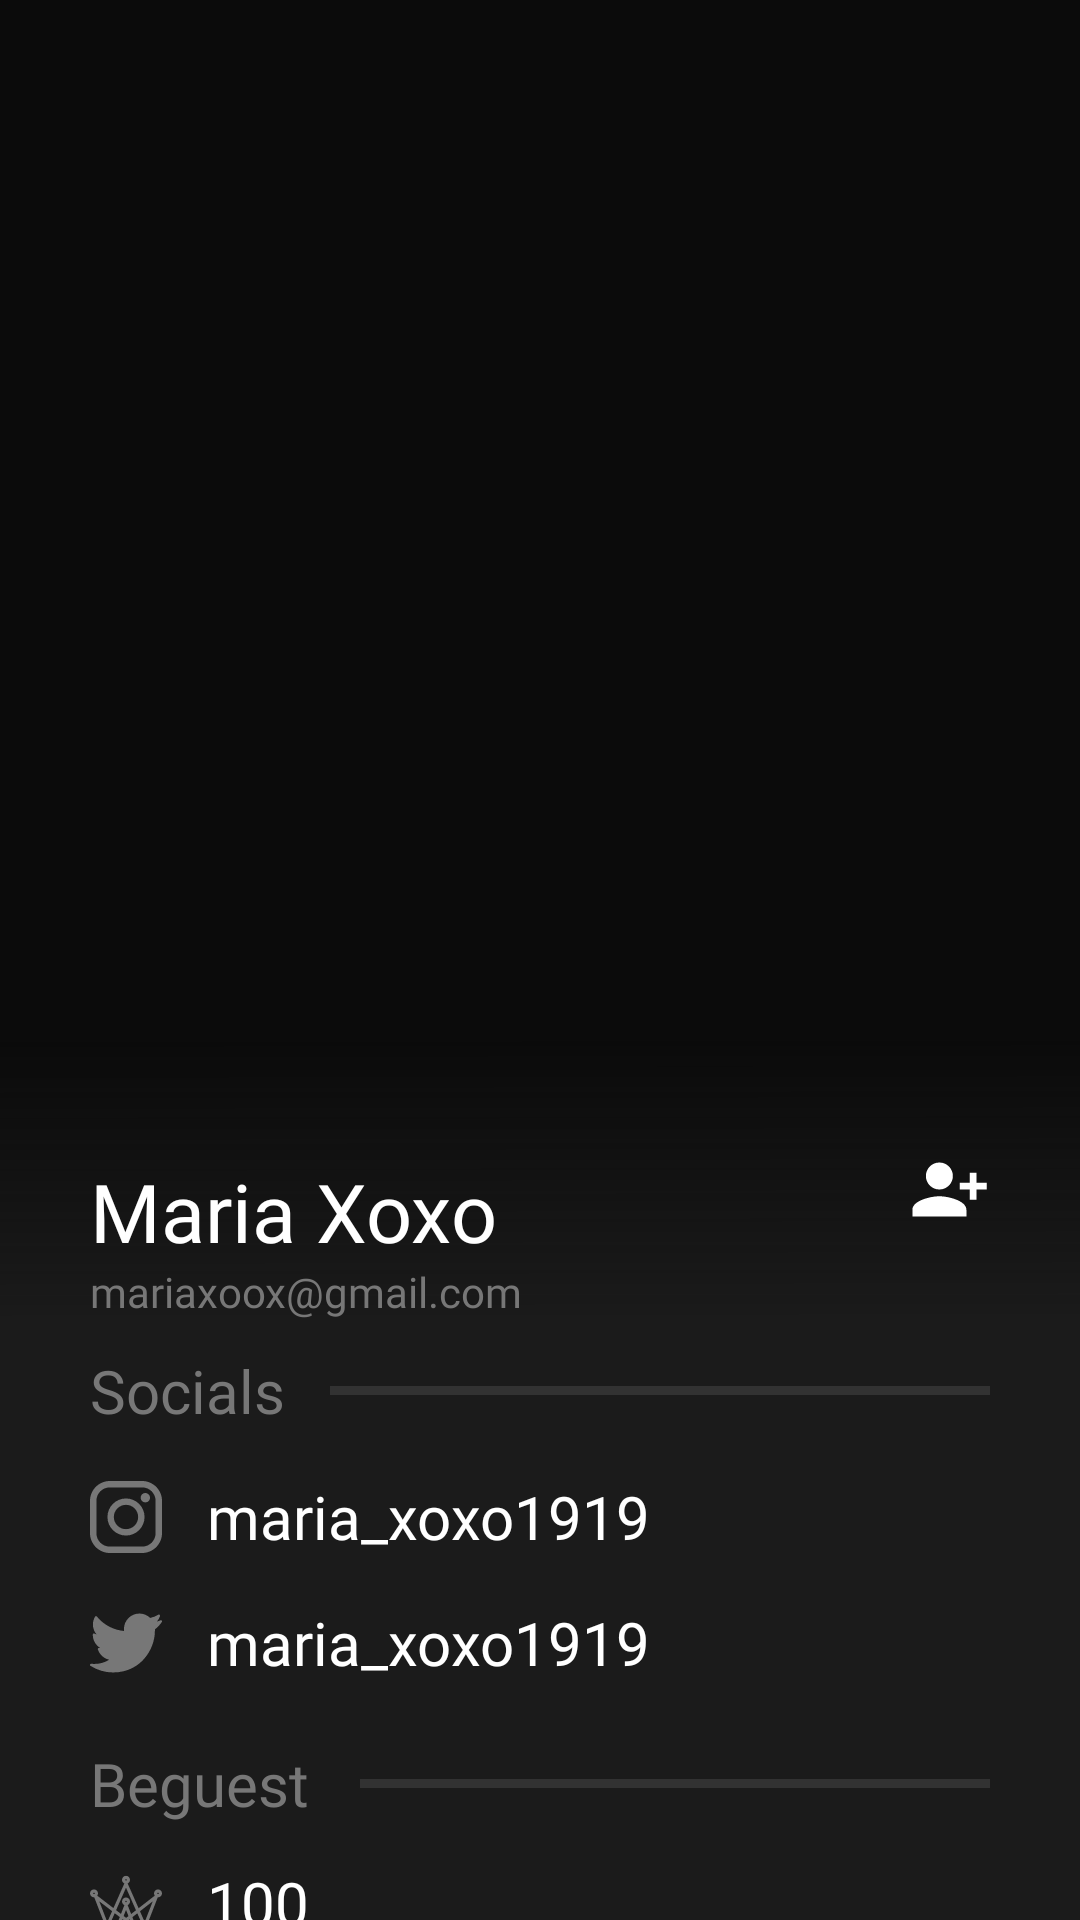

Icon click points for this 1080x1920 phone screenshot, format point (x, y):
person add: point (949, 1189)
